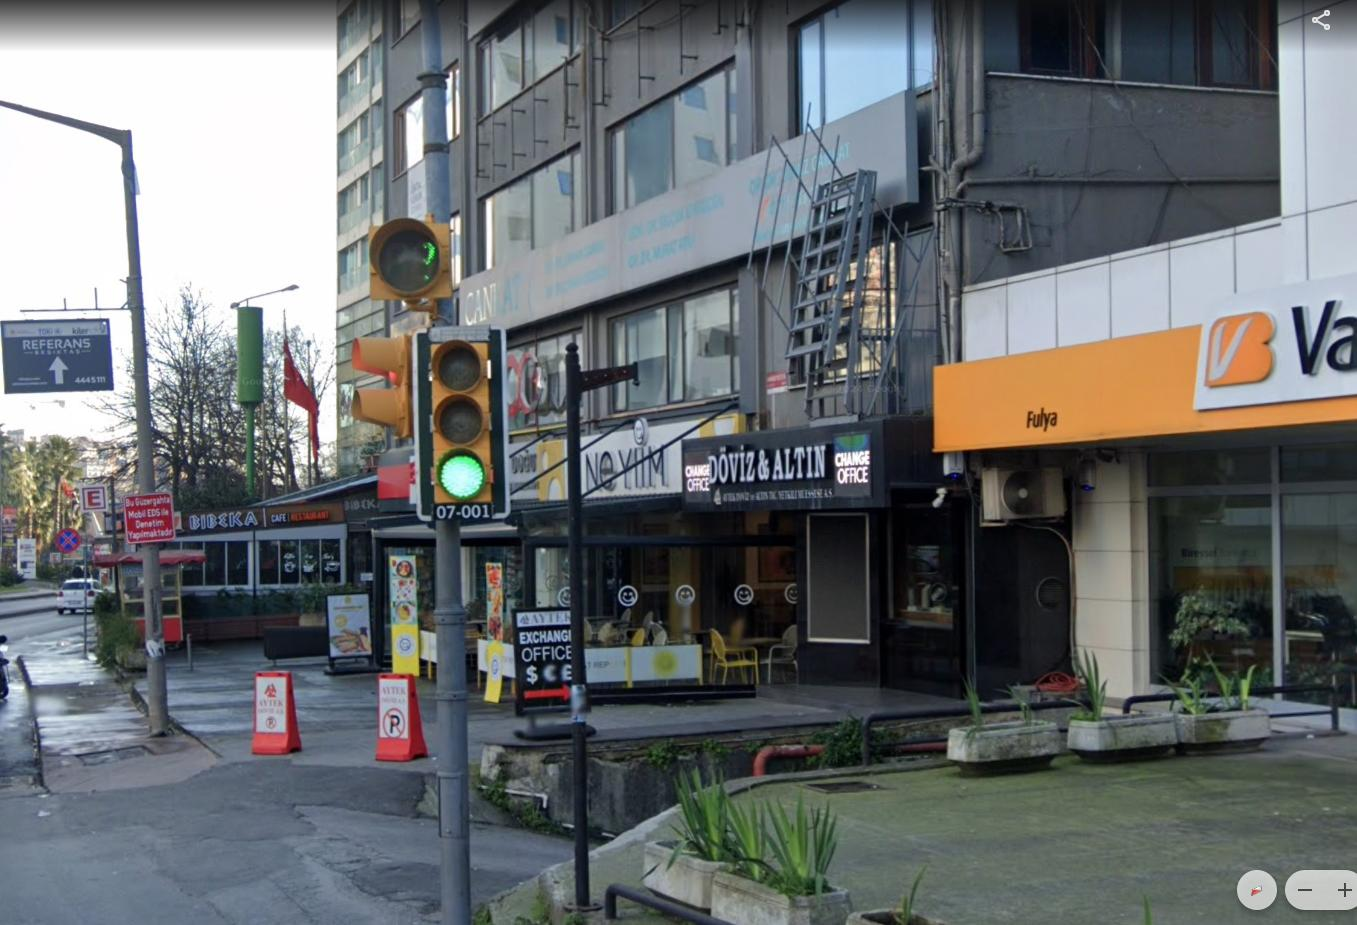greenlight: (431, 331, 500, 502)
